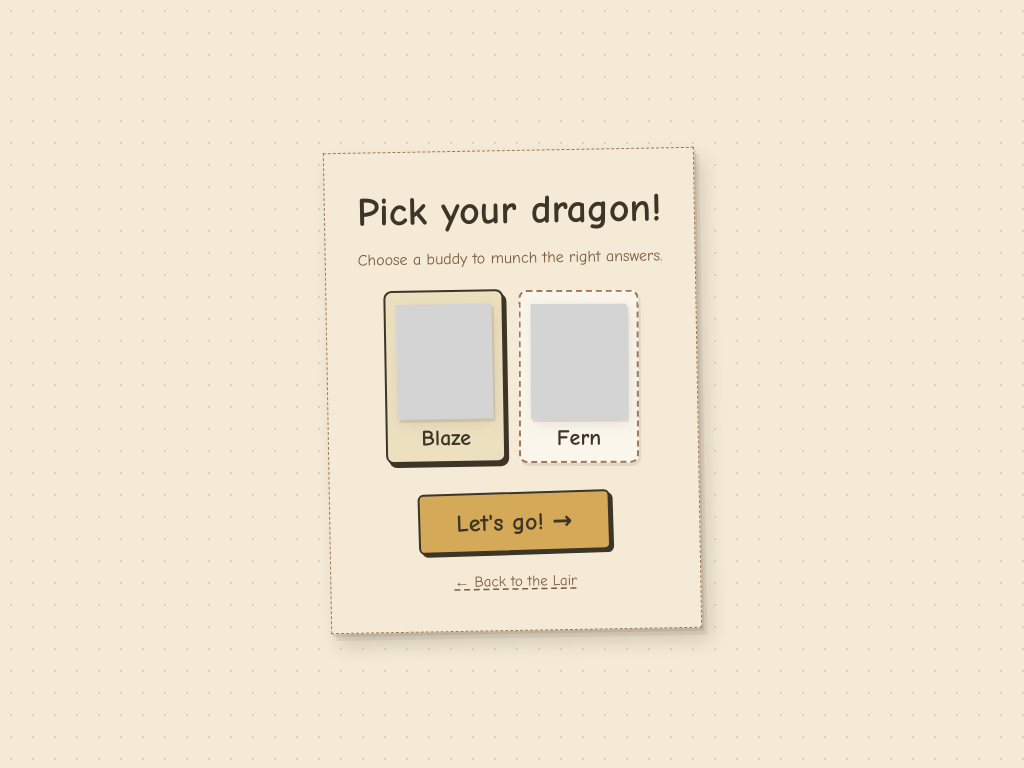
DragonMunchers — the board › labels a mul round for base 3
The width and height of the screenshot is (1024, 768).
Click the button "Let's go! →" at (514, 522), box [417,488,611,554]
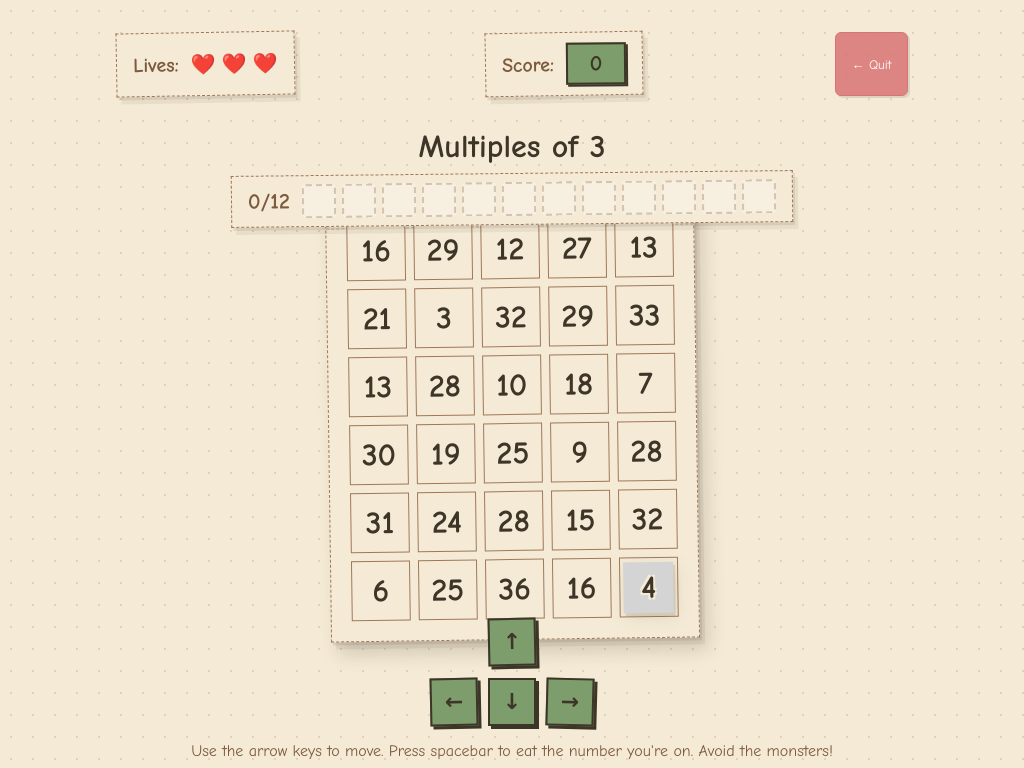
Result: the text "Multiples of 3" is shown at [418,128,606,165]
